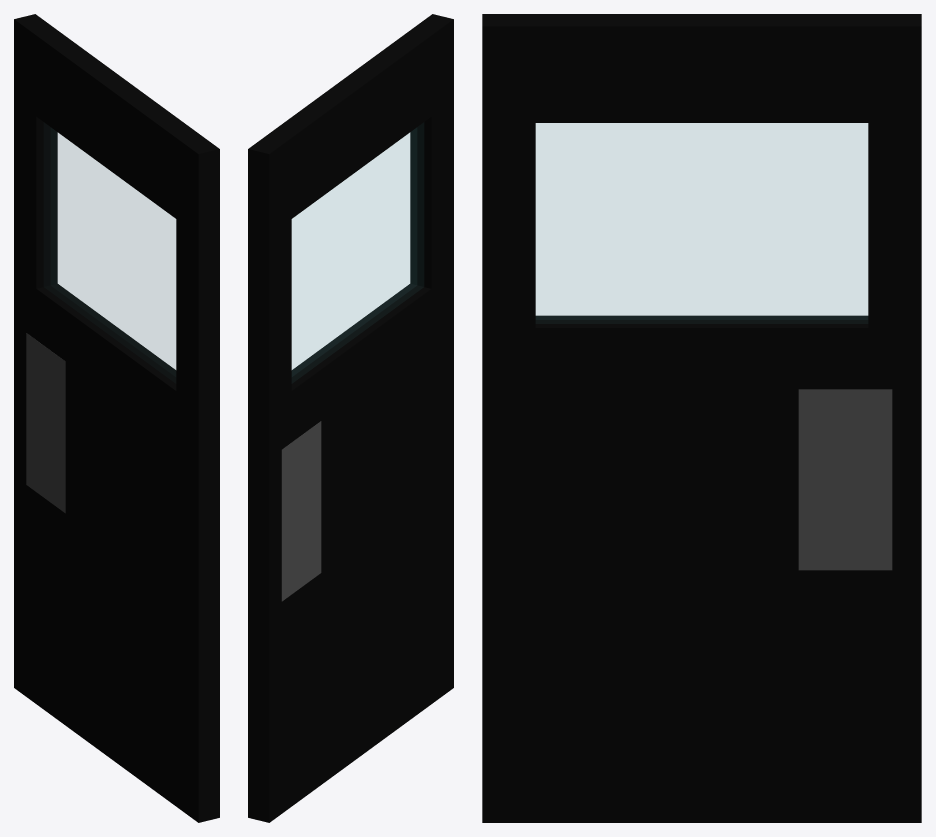
File: door.obj
3 renders of one model, left to right at view 1: azimuth 30°, elevation 25°; view 2: azimuth 150°, elevation 25°; view 3: azimuth 270°, elevation 25°, orthographic. The views are drawn at different scales.
Visible parts, largest first — view 1: Door, Window, Handle; view 2: Door, Window, Handle; view 3: Door, Window, Handle.
Part boxes in pixels (x1=…): Door: x1=14, y1=14, x2=219, y2=822; Window: x1=51, y1=128, x2=175, y2=376; Handle: x1=26, y1=333, x2=65, y2=513; Door: x1=248, y1=14, x2=453, y2=822; Window: x1=292, y1=128, x2=416, y2=376; Handle: x1=281, y1=421, x2=321, y2=601; Door: x1=482, y1=14, x2=921, y2=822; Window: x1=536, y1=123, x2=867, y2=319; Handle: x1=798, y1=389, x2=892, y2=570.
Size of the model in its own units: 0.1015 by 3 by 1.5.
